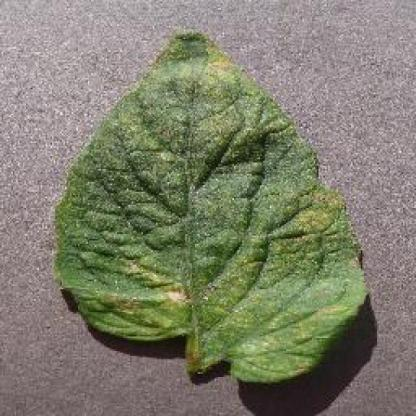Tomato_Spider_Mites: (55, 32, 368, 383)
